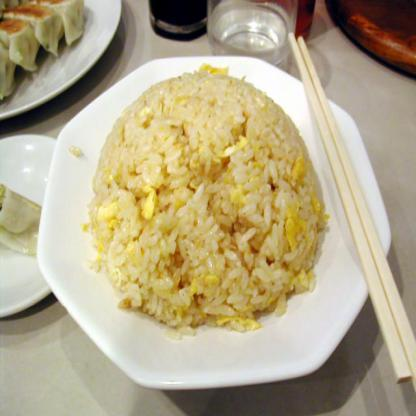fried rice: (92, 74, 311, 316)
